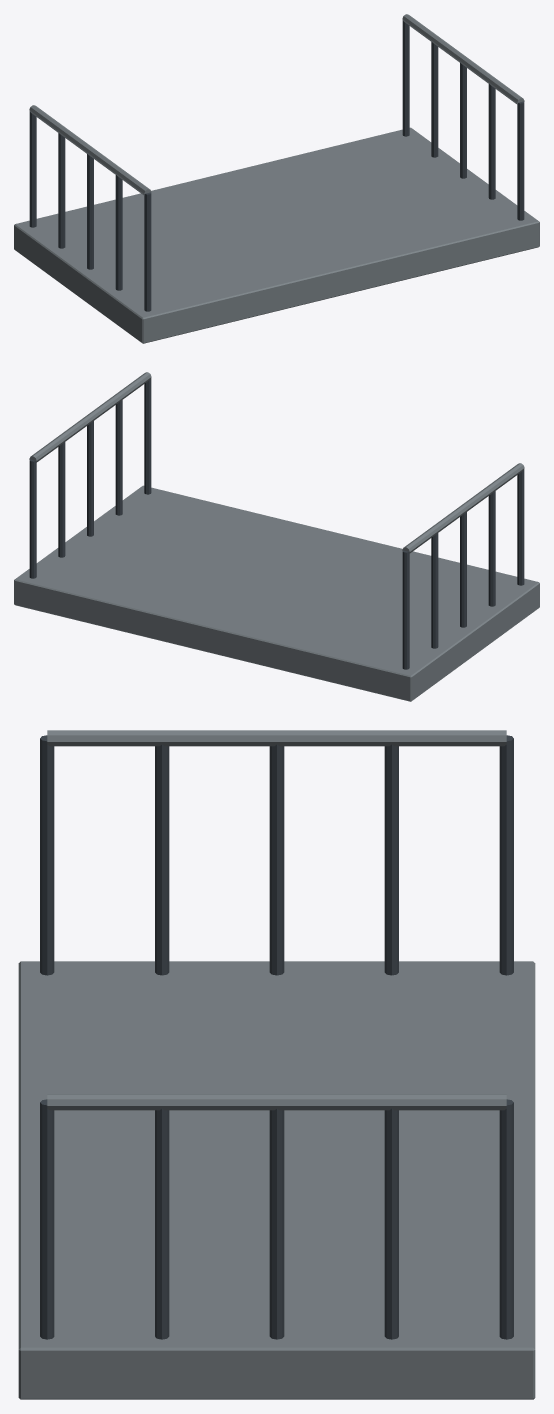
Rendered from StairLanding.fbx.
3 renders of one model, top to bottom at view 1: azimuth 30°, elevation 25°; view 2: azimuth 150°, elevation 25°; view 3: azimuth 270°, elevation 25°, orthographic. The views are drawn at different scales.
Visible parts, largest first — view 1: StairLanding; view 2: StairLanding; view 3: StairLanding.
Part boxes in pixels (x1,y1,x2,y2): StairLanding: [14, 14, 539, 343]; StairLanding: [14, 372, 539, 701]; StairLanding: [18, 730, 535, 1399].
Size of the model in its own units: 320 by 113 by 180.
1 material, 1 textured.
